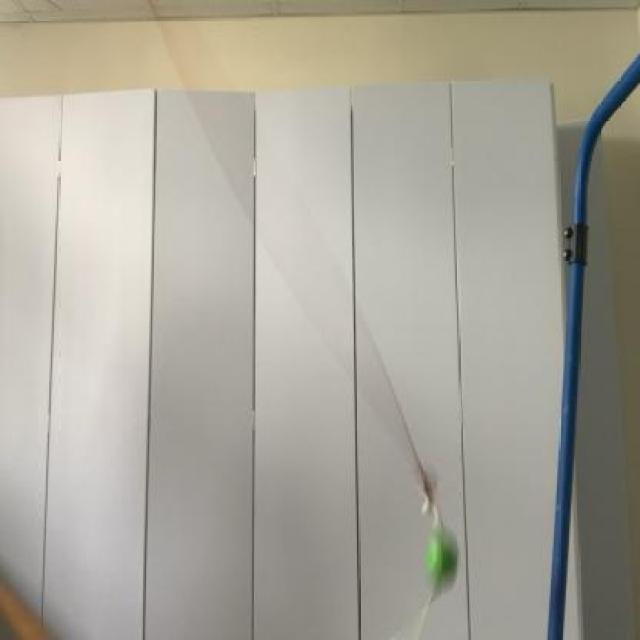baseball: (420, 526, 460, 606)
